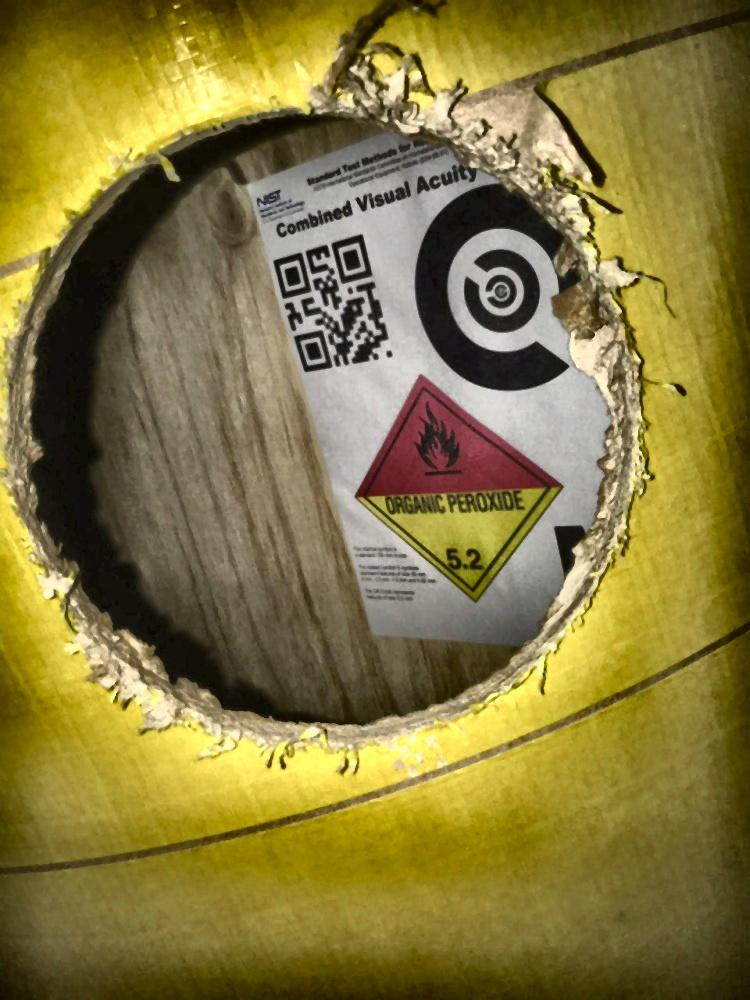organic-peroxide: (353, 375, 564, 609)
